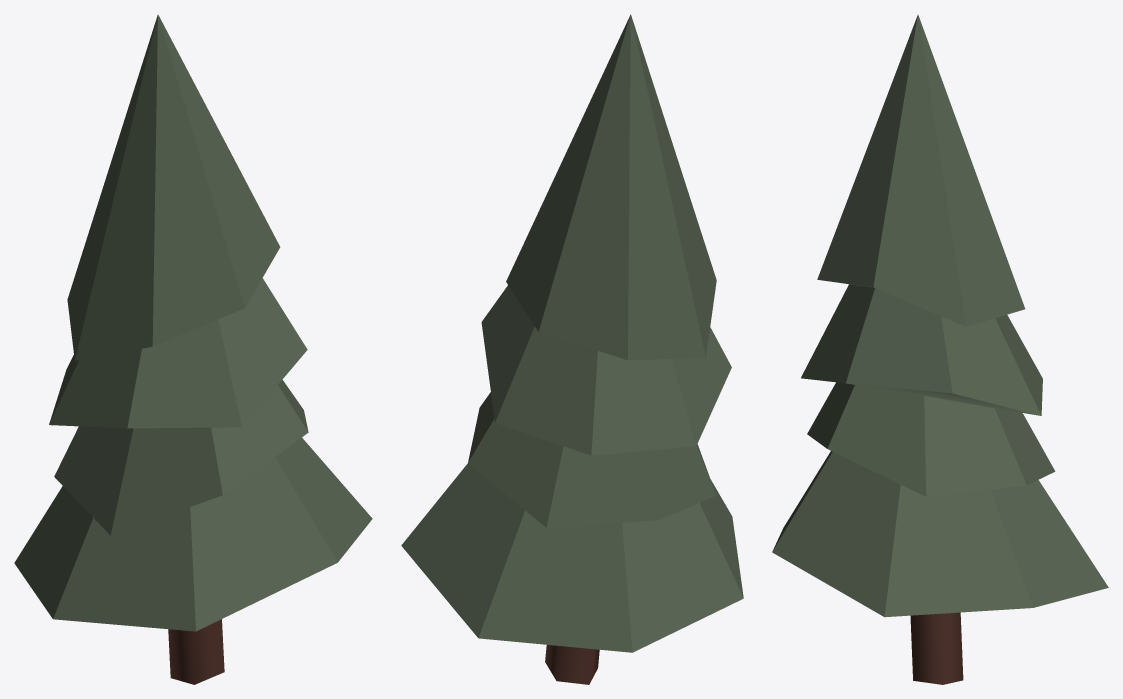
The model's file is tree-ver2.glb.
3 renders of one model, left to right at view 1: azimuth 30°, elevation 25°; view 2: azimuth 150°, elevation 25°; view 3: azimuth 270°, elevation 25°, orthographic. The views are drawn at different scales.
Parts seen in each view (by area): view 1: Tree-ver2_Texture-base_0; view 2: Tree-ver2_Texture-base_0; view 3: Tree-ver2_Texture-base_0.
Part boxes in pixels (<box>): Tree-ver2_Texture-base_0: <box>14,14,372,684</box>; Tree-ver2_Texture-base_0: <box>401,14,743,684</box>; Tree-ver2_Texture-base_0: <box>772,14,1108,684</box>.
Size of the model in its own units: 2.44 by 5.18 by 2.45.
1 material, 1 textured.
